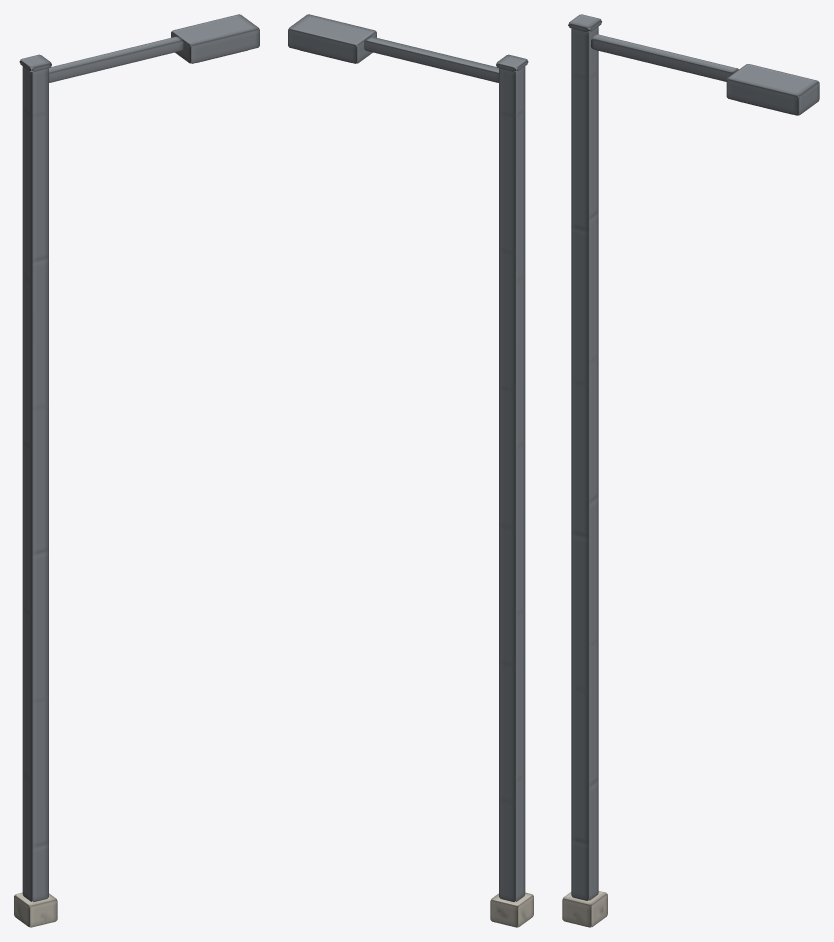
File: Poste_Luz_Calle.fbx
3 renders of one model, left to right at view 1: azimuth 30°, elevation 25°; view 2: azimuth 150°, elevation 25°; view 3: azimuth 330°, elevation 25°, orthographic. The views are drawn at different scales.
Visible parts, largest first — view 1: Poste_Luz_Calle; view 2: Poste_Luz_Calle; view 3: Poste_Luz_Calle.
Part boxes in pixels (box(x1,y1,x2,y2)): Poste_Luz_Calle: box(14, 14, 259, 927); Poste_Luz_Calle: box(288, 14, 533, 927); Poste_Luz_Calle: box(562, 14, 819, 927).
Size of the model in its own units: 2.06 by 7.41 by 0.3125.
1 material, 1 textured.
